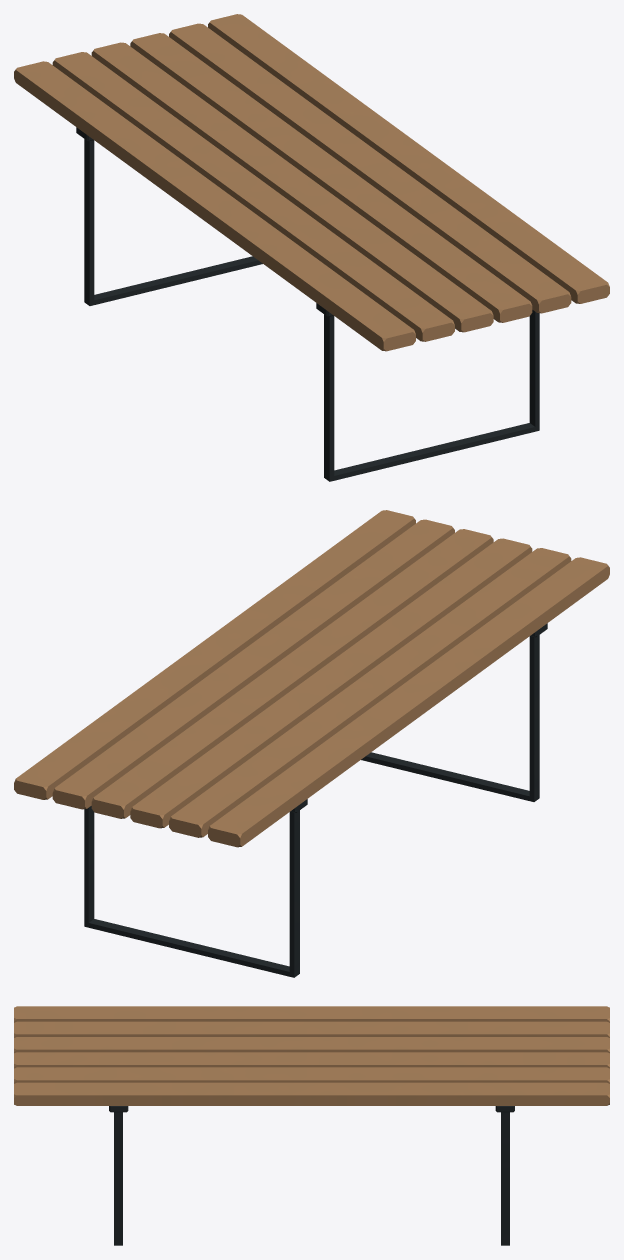
File: Table_04_01.fbx
3 renders of one model, top to bottom at view 1: azimuth 30°, elevation 25°; view 2: azimuth 150°, elevation 25°; view 3: azimuth 270°, elevation 25°, orthographic. The views are drawn at different scales.
Visible parts, largest first — view 1: Table_04_01; view 2: Table_04_01; view 3: Table_04_01.
Boxes of the visible parts, x1=… form: Table_04_01: x1=14, y1=14, x2=609, y2=481; Table_04_01: x1=14, y1=510, x2=609, y2=977; Table_04_01: x1=14, y1=1006, x2=609, y2=1245.
Bounding box in the file's own units: 0.8031 × 0.6451 × 2.27.
